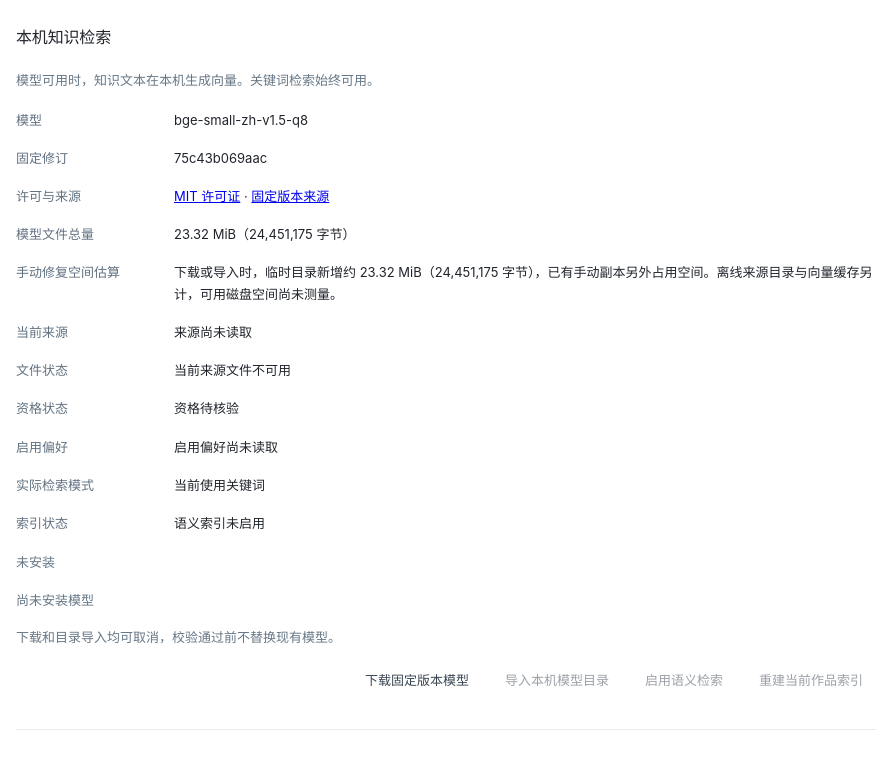
it: 下载只在作者点击后开始，显示本次进度并用同一操作编号取消
Expected: the text "尚未安装模型" is shown, x1=16 y1=592 x2=94 y2=608
Click the button "下载固定版本模型".
click(417, 680)  # box x1=352 y1=663 x2=482 y2=697
(page scrolled)
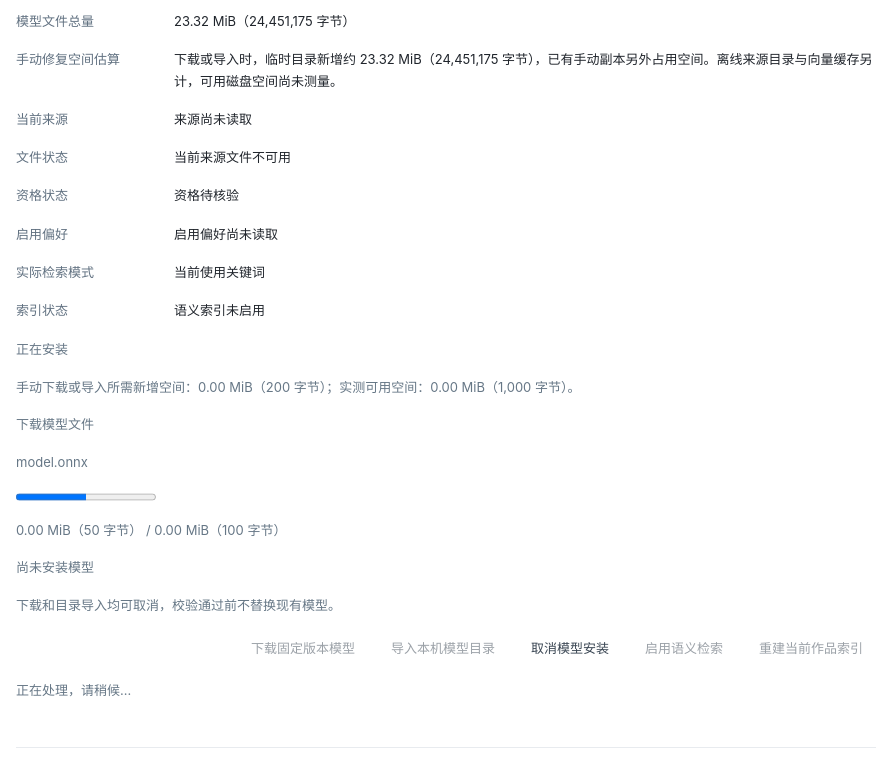
Now the text "model.onnx" is shown, box x1=16 y1=454 x2=88 y2=470
Click the button "取消模型安装".
click(570, 648)  # box x1=518 y1=631 x2=622 y2=665
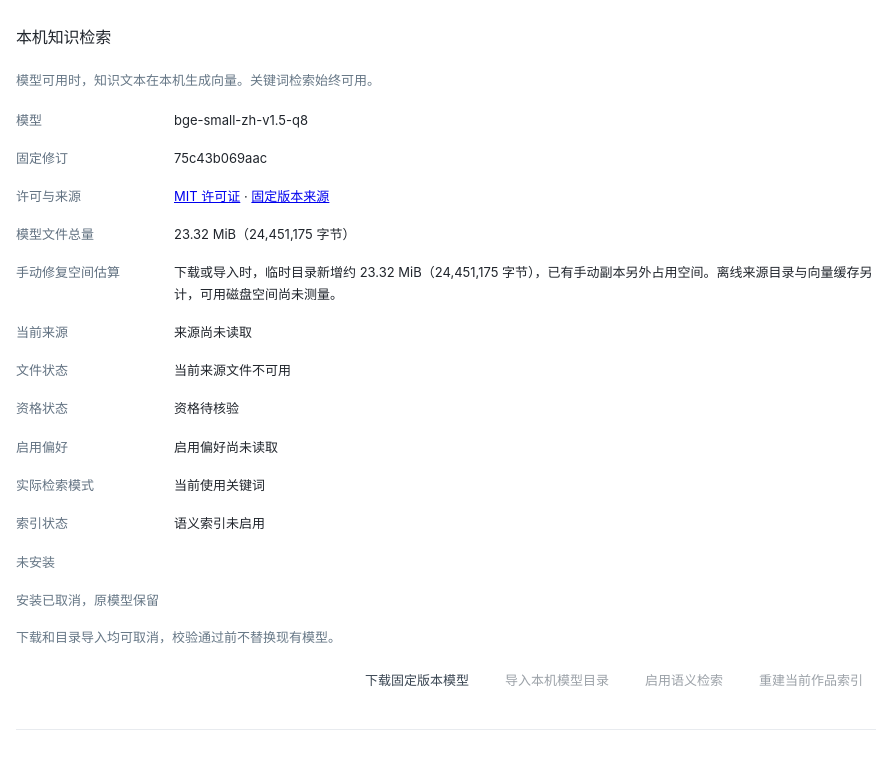
Now the text "安装已取消，原模型保留" is shown, box x1=16 y1=592 x2=159 y2=608
Now the progress indicator is gone
